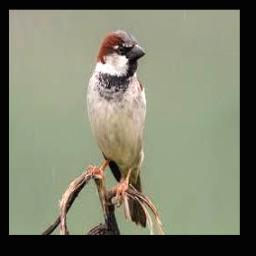Sparrow: (86, 29, 148, 227)
